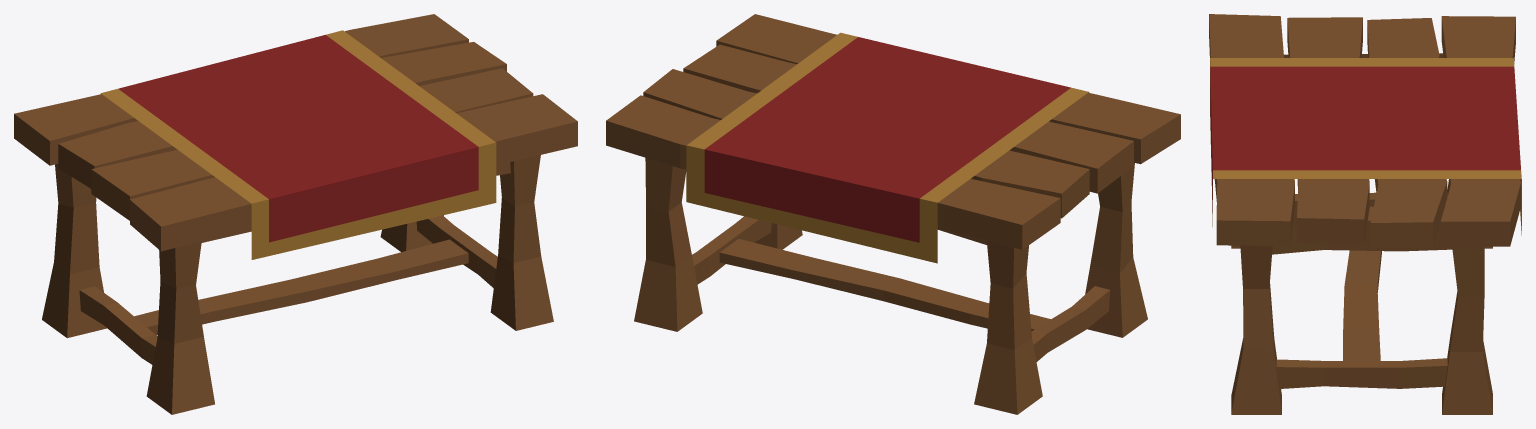
Rendered from wooden_table.fbx.
The picture shows the model from 3 angles, left to right: view 1: azimuth 30°, elevation 25°; view 2: azimuth 150°, elevation 25°; view 3: azimuth 270°, elevation 25°; orthographic projection.
Parts seen in each view (by area): view 1: wooden_table, sheet, sheet.001; view 2: wooden_table, sheet, sheet.001; view 3: wooden_table, sheet, sheet.001.
Part boxes in pixels (<box>): wooden_table: <box>14,14,577,414</box>; sheet: <box>118,35,478,242</box>; sheet.001: <box>100,30,496,259</box>; wooden_table: <box>606,14,1180,414</box>; sheet: <box>704,37,1070,242</box>; sheet.001: <box>686,32,1089,263</box>; wooden_table: <box>1209,14,1520,414</box>; sheet: <box>1210,66,1520,211</box>; sheet.001: <box>1210,58,1521,235</box>.
Size of the model in its own units: 1.03 by 0.7382 by 1.63.
